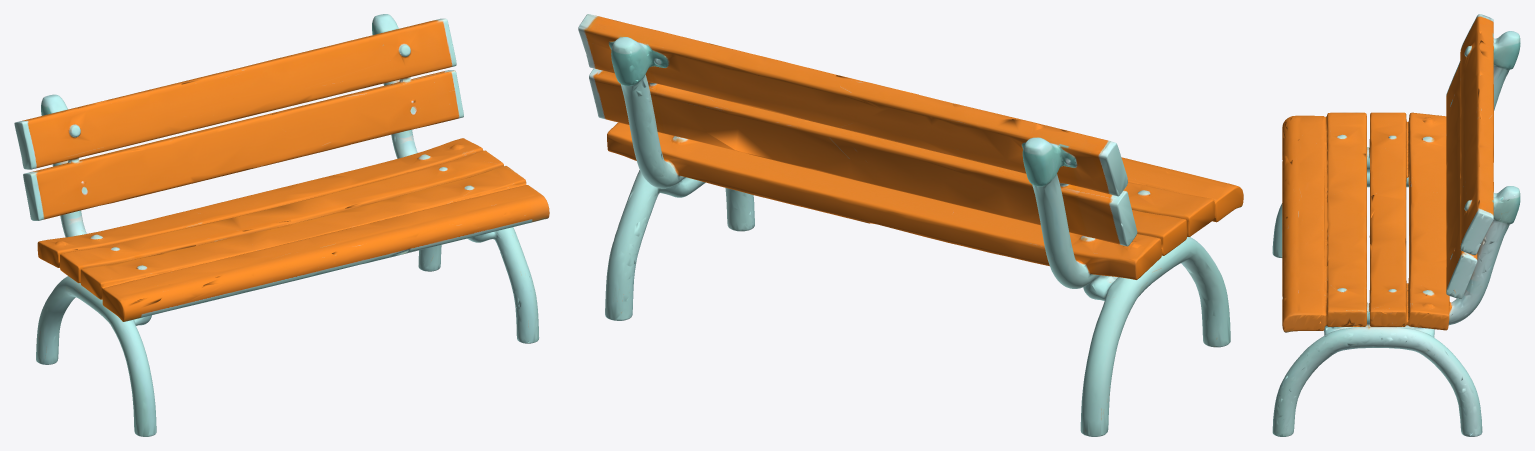
File: prop-bench.glb
3 views of the same model, side by side, from view 1: azimuth 30°, elevation 25°; view 2: azimuth 150°, elevation 25°; view 3: azimuth 270°, elevation 25° (orthographic). The views are drawn at different scales.
Size of the model in its own units: 1.91 by 1.05 by 1.01.
1 material, 1 textured.
